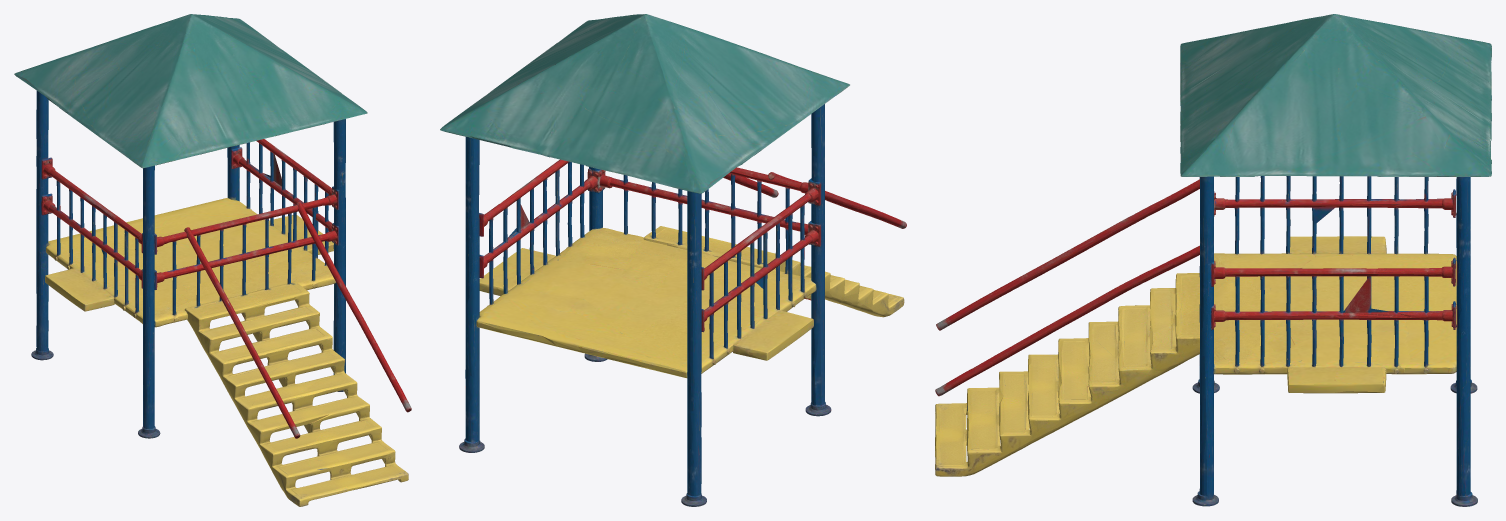
The model's file is modulo_verde.glb.
3 views of the same model, side by side, from view 1: azimuth 30°, elevation 25°; view 2: azimuth 150°, elevation 25°; view 3: azimuth 270°, elevation 25° (orthographic). The views are drawn at different scales.
Parts seen in each view (by area): view 1: Mesh_0; view 2: Mesh_0; view 3: Mesh_0.
Boxes of the visible parts, x1,y1,x2,y2 form: Mesh_0: (14, 14, 411, 506); Mesh_0: (440, 14, 906, 506); Mesh_0: (935, 14, 1491, 506).
Bounding box in the file's own units: 1.2 × 1.63 × 1.9.
1 material, 1 textured.
